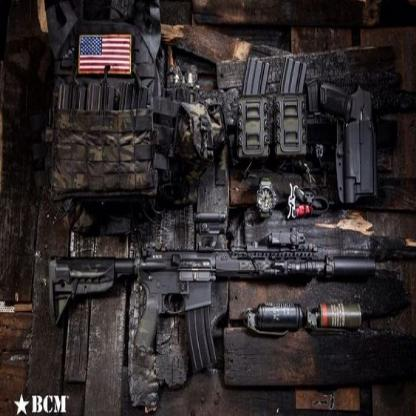Grenade: (244, 298, 304, 340), (304, 298, 362, 337)
Gun: (47, 228, 376, 374)
Pistol: (320, 76, 379, 204)
